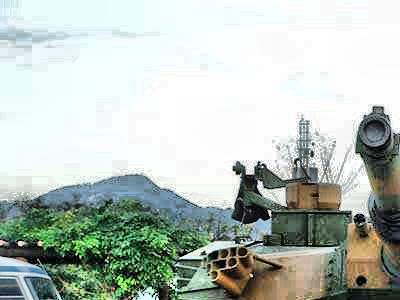tanks: (178, 107, 400, 300)
